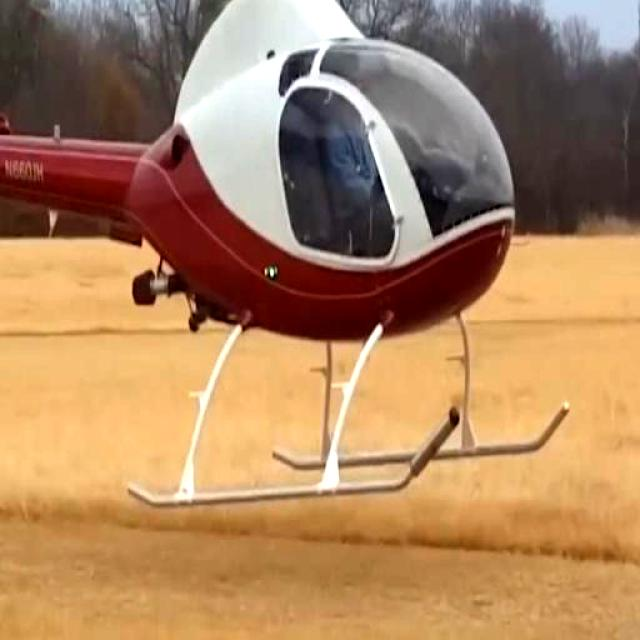drone: (0, 0, 581, 484)
